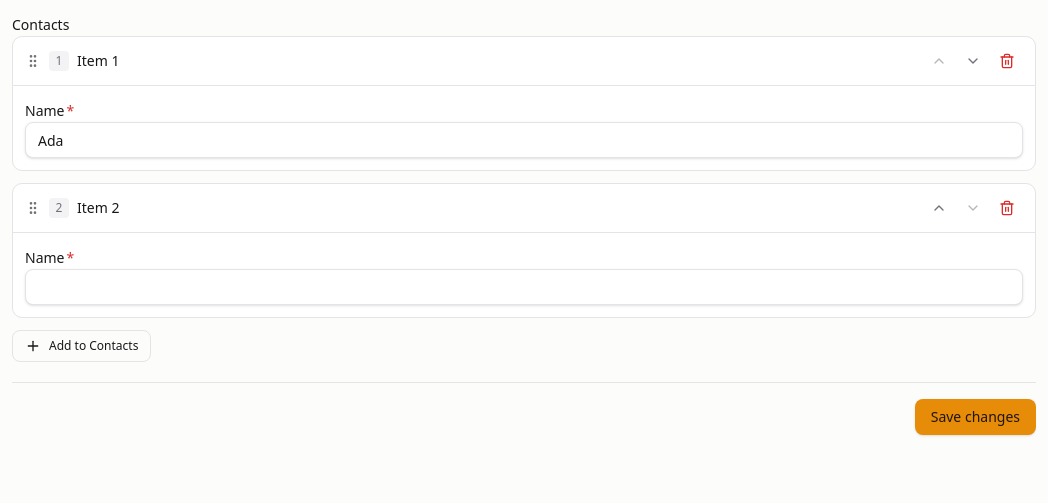
validation feedback › summarises failing items and spells them out in place
What coordinates should you click on to do the following:
click the button "Save changes"
I would click on:
 (975, 417)
Its box is [915,399,1036,435].
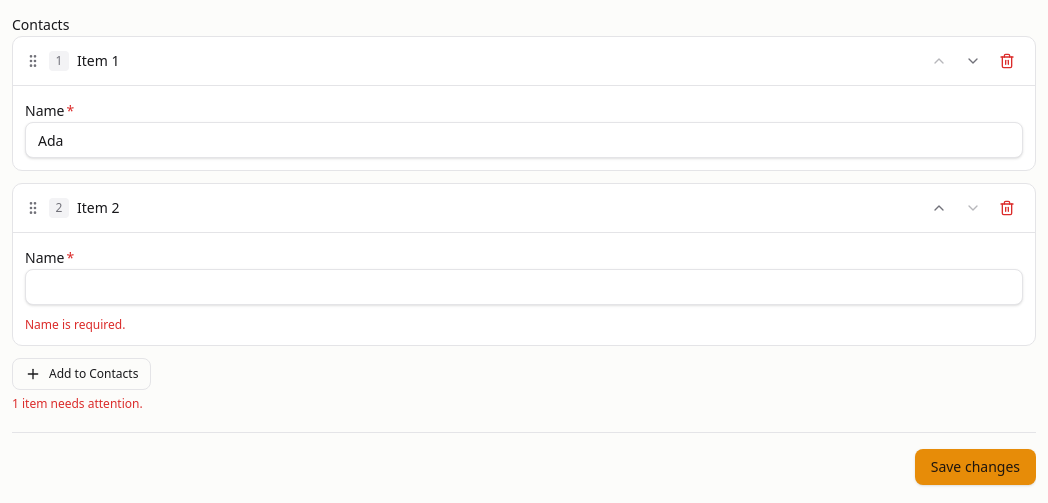
Result: the text "1 item needs attention." is shown at [12,395,143,412]
Result: the list item "Name is required." is shown at [25,316,125,333]
